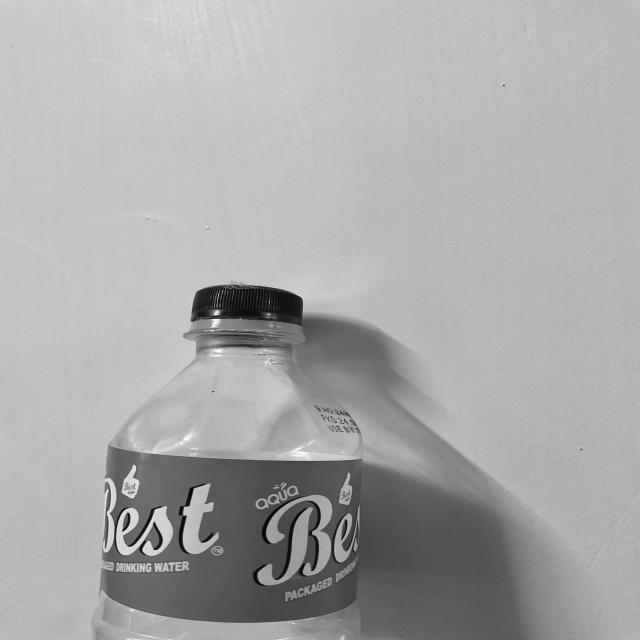Good-cap-Df0S: (186, 284, 313, 342)
